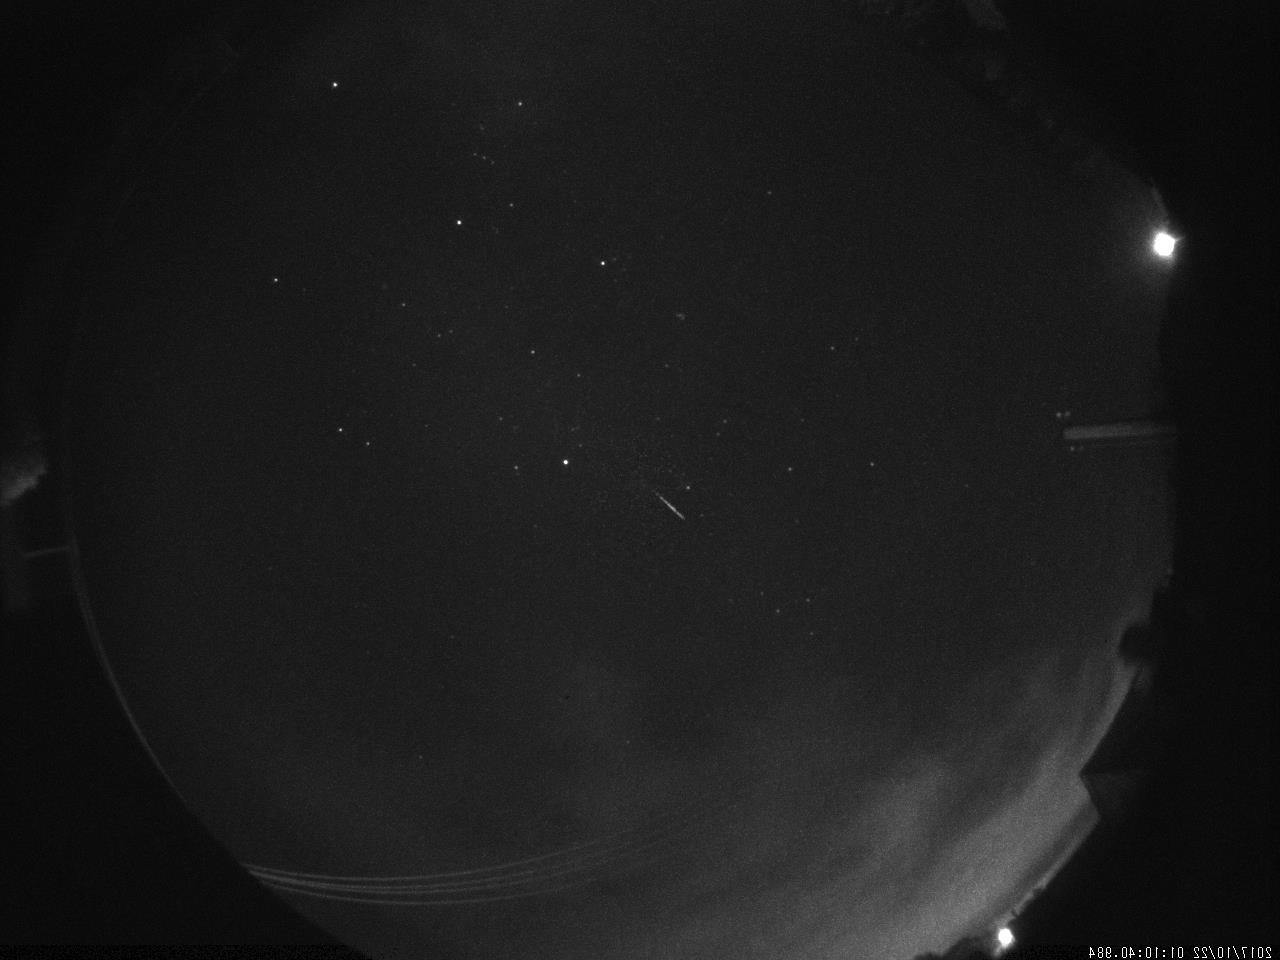meteor: (653, 493, 691, 530)
